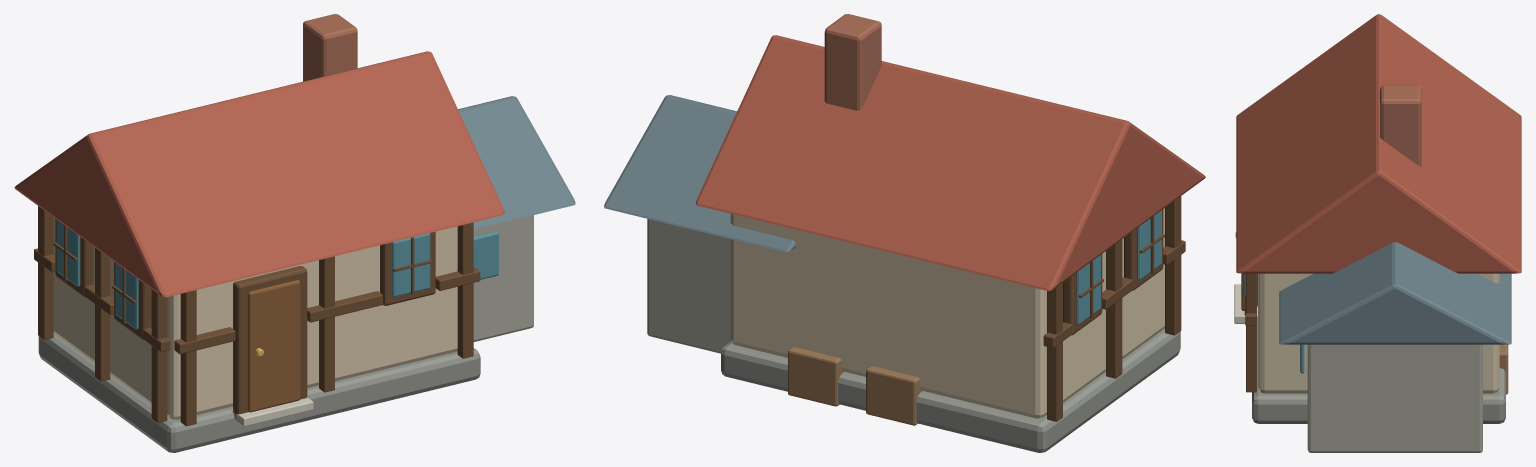
File: temperate-cottage-4.glb
3 renders of one model, left to right at view 1: azimuth 30°, elevation 25°; view 2: azimuth 150°, elevation 25°; view 3: azimuth 270°, elevation 25°, orthographic. The views are drawn at different scales.
Parts seen in each view (by area): view 1: Clay tiles, Ivory plaster, Dark beams, Foundation stone, Blue slate, Door oak, Fieldstone, Blue glass, Chimney brick, Cut limestone; view 2: Clay tiles, Ivory plaster, Foundation stone, Blue slate, Fieldstone, Dark beams, Aged oak, Chimney brick, Blue glass; view 3: Clay tiles, Fieldstone, Blue slate, Ivory plaster, Chimney brick, Foundation stone, Dark beams, Cut limestone, Aged oak.
Boxes of the visible parts, x1=… form: Clay tiles: x1=14, y1=51, x2=504, y2=297; Ivory plaster: x1=53, y1=217, x2=457, y2=419; Dark beams: x1=34, y1=206, x2=480, y2=426; Foundation stone: x1=38, y1=333, x2=480, y2=452; Blue slate: x1=458, y1=96, x2=575, y2=229; Door oak: x1=247, y1=280, x2=300, y2=412; Fieldstone: x1=473, y1=215, x2=533, y2=341; Blue glass: x1=56, y1=220, x2=498, y2=329; Chimney brick: x1=303, y1=14, x2=357, y2=81; Cut limestone: x1=232, y1=397, x2=313, y2=426; Clay tiles: x1=695, y1=35, x2=1205, y2=291; Ivory plaster: x1=730, y1=208, x2=1164, y2=418; Foundation stone: x1=721, y1=328, x2=1180, y2=452; Blue slate: x1=604, y1=95, x2=796, y2=252; Fieldstone: x1=647, y1=219, x2=730, y2=353; Dark beams: x1=1043, y1=196, x2=1185, y2=421; Aged oak: x1=788, y1=347, x2=922, y2=425; Chimney brick: x1=824, y1=14, x2=881, y2=110; Blue glass: x1=1076, y1=210, x2=1161, y2=324; Clay tiles: x1=1236, y1=14, x2=1521, y2=273; Fieldstone: x1=1307, y1=344, x2=1482, y2=452; Blue slate: x1=1279, y1=242, x2=1511, y2=344; Ivory plaster: x1=1258, y1=273, x2=1499, y2=393; Chimney brick: x1=1380, y1=85, x2=1421, y2=166; Foundation stone: x1=1252, y1=274, x2=1505, y2=423; Dark beams: x1=1241, y1=273, x2=1257, y2=392; Cut limestone: x1=1234, y1=284, x2=1257, y2=323; Aged oak: x1=1499, y1=344, x2=1508, y2=394.
Size of the model in its own units: 4.38 by 3.02 by 2.62.
